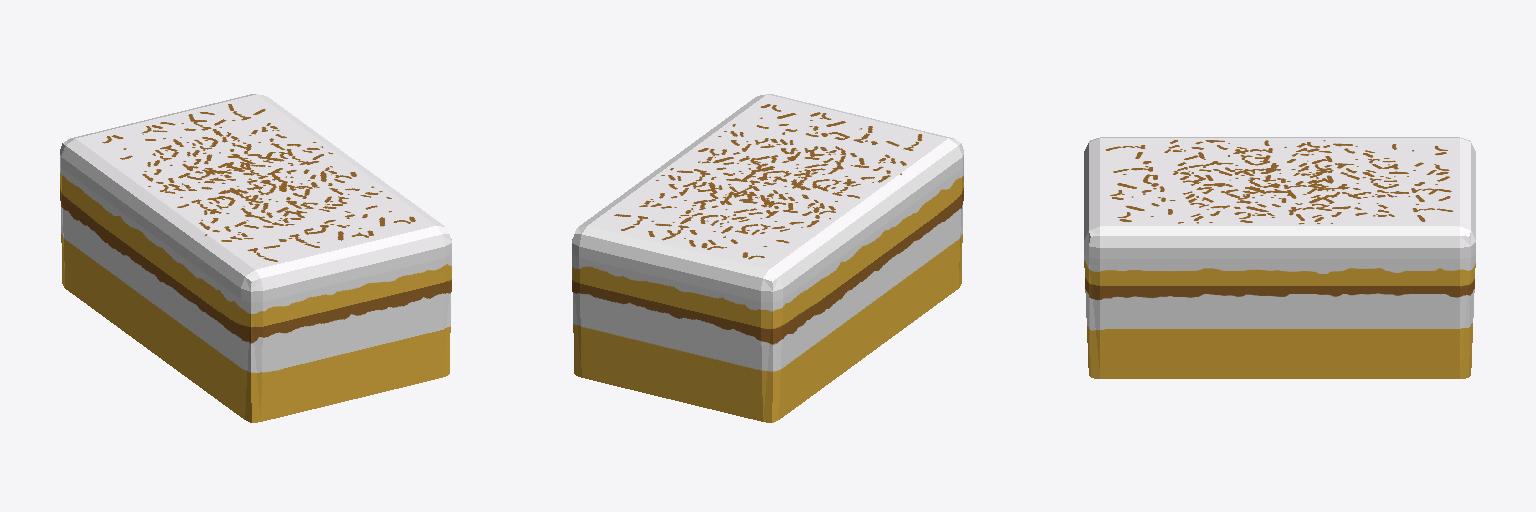
3 views of the same model, side by side, from view 1: azimuth 30°, elevation 25°; view 2: azimuth 150°, elevation 25°; view 3: azimuth 270°, elevation 25° (orthographic).
Parts seen in each view (by area): view 1: Risoto; view 2: Risoto; view 3: Risoto.
Part boxes in pixels (bbox=[...]): Risoto: bbox=[60, 94, 451, 422]; Risoto: bbox=[572, 94, 963, 422]; Risoto: bbox=[1084, 137, 1475, 378].
Size of the model in its own units: 0.3302 by 0.2222 by 0.5342.
1 materials, 1 textured.